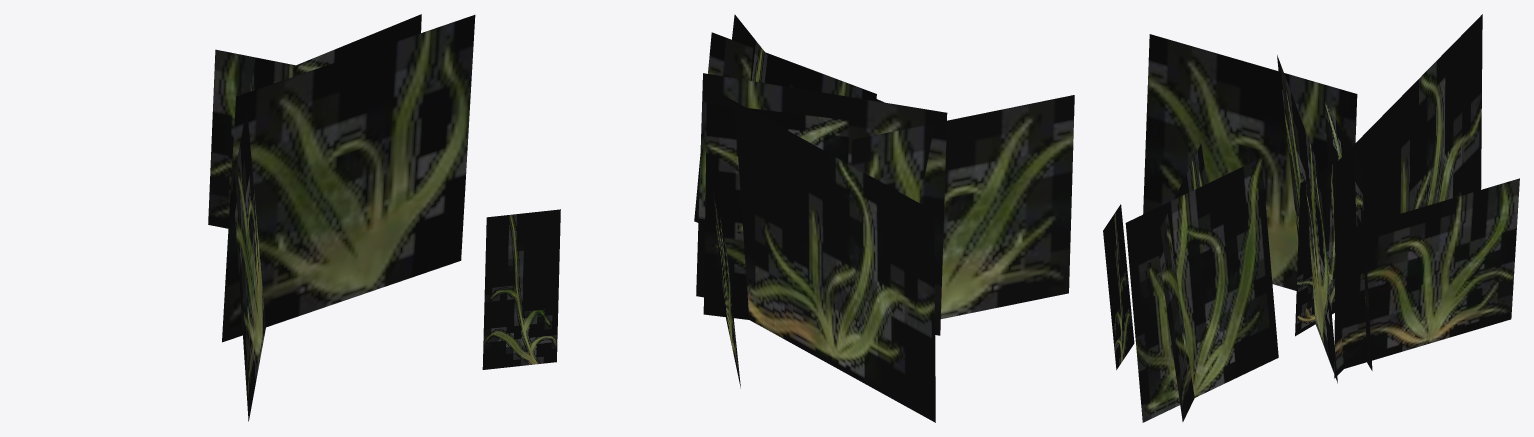
File: pasto.glb
3 renders of one model, left to right at view 1: azimuth 30°, elevation 25°; view 2: azimuth 150°, elevation 25°; view 3: azimuth 270°, elevation 25°, orthographic. The views are drawn at different scales.
Visible parts, largest first — view 1: cerca; view 2: cerca; view 3: cerca.
Boxes of the visible parts, box(x1,y1,x2,y2) form: cerca: box(208, 14, 560, 421); cerca: box(694, 14, 1074, 422); cerca: box(1103, 14, 1519, 422).
Bounding box in the file's own units: 0.6526 × 0.3463 × 0.5956.
Materials: 1 (1 with a texture image).
